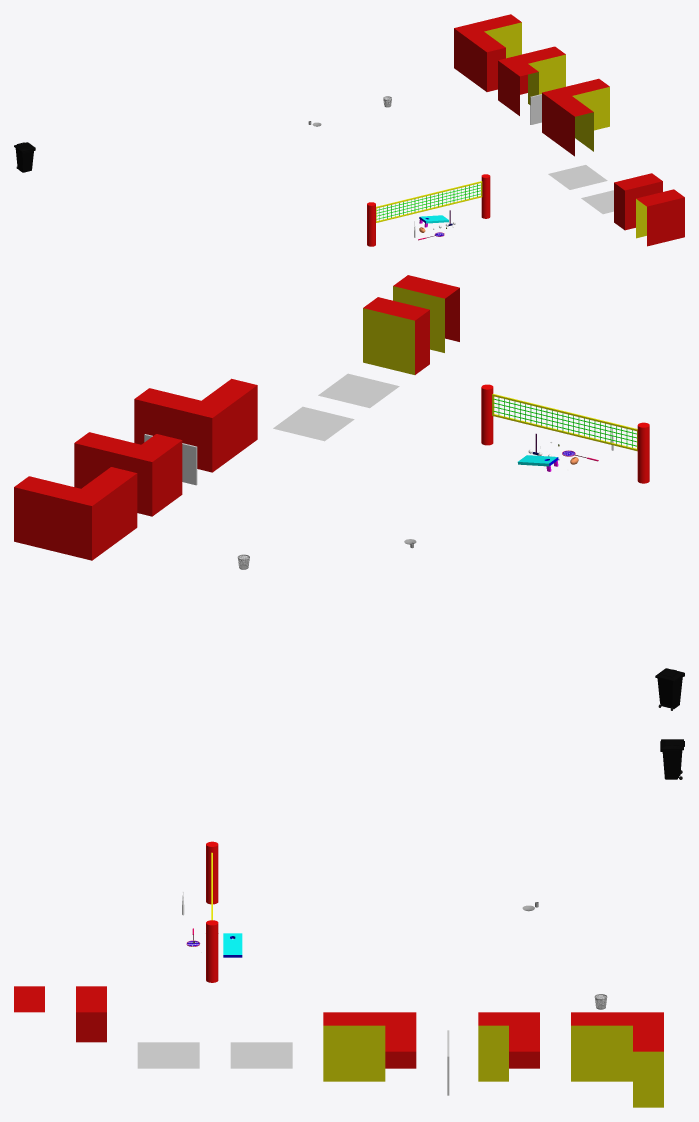
3 views of the same model, one above another, from view 1: azimuth 30°, elevation 25°; view 2: azimuth 150°, elevation 25°; view 3: azimuth 270°, elevation 25° (orthographic). The views are drawn at different scales.
Visible parts, largest first — view 1: restRoomWall18_ID, restRoomWall14_ID, restRoomWall15_ID, restRoomWall16_ID, BadmintonNet, restRoomWall17_ID, Floor16_ID, trsshcn_can_polySurface5, roof1_ID; view 2: restRoomWall14_ID, restRoomWall18_ID, restRoomWall15_ID, restRoomWall17_ID, BadmintonNet, restRoomWall16_ID, Floor16_ID, roof1_ID, trsshcn_can_polySurface5, stallDoor2_ID; view 3: restRoomWall14_ID, restRoomWall18_ID, restRoomWall15_ID, restRoomWall17_ID, roof1_ID, Floor16_ID, BadmintonNet, restRoomWall16_ID, trsshcn_can_polySurface5.
Part boxes in pixels (x1,y1,x2,y2): restRoomWall18_ID: (542,78,609,156); restRoomWall14_ID: (454,14,521,91); restRoomWall15_ID: (498,46,565,115); restRoomWall16_ID: (636,189,684,246); BadmintonNet: (367,174,490,246); restRoomWall17_ID: (614,173,662,230); Floor16_ID: (548,165,607,189); trsshcn_can_polySurface5: (14,142,35,172); roof1_ID: (581,190,613,214); restRoomWall14_ID: (14,467,137,560); restRoomWall18_ID: (134,378,257,472); restRoomWall15_ID: (74,432,182,516); restRoomWall17_ID: (363,297,429,374); BadmintonNet: (481,384,649,483); restRoomWall16_ID: (393,275,459,352); Floor16_ID: (273,406,354,441); roof1_ID: (318,373,399,408); trsshcn_can_polySurface5: (655,668,684,710); stallDoor2_ID: (144,434,197,485); restRoomWall14_ID: (571,1012,663,1107); restRoomWall18_ID: (323,1012,416,1081); restRoomWall15_ID: (478,1012,539,1081); restRoomWall17_ID: (76,986,106,1042); roof1_ID: (137,1042,199,1068); Floor16_ID: (230,1042,292,1068); BadmintonNet: (206,841,218,982); restRoomWall16_ID: (14,986,44,1012); trsshcn_can_polySurface5: (660,739,684,779).
Size of the model in its own units: 25.72 by 2.09 by 21.68.
